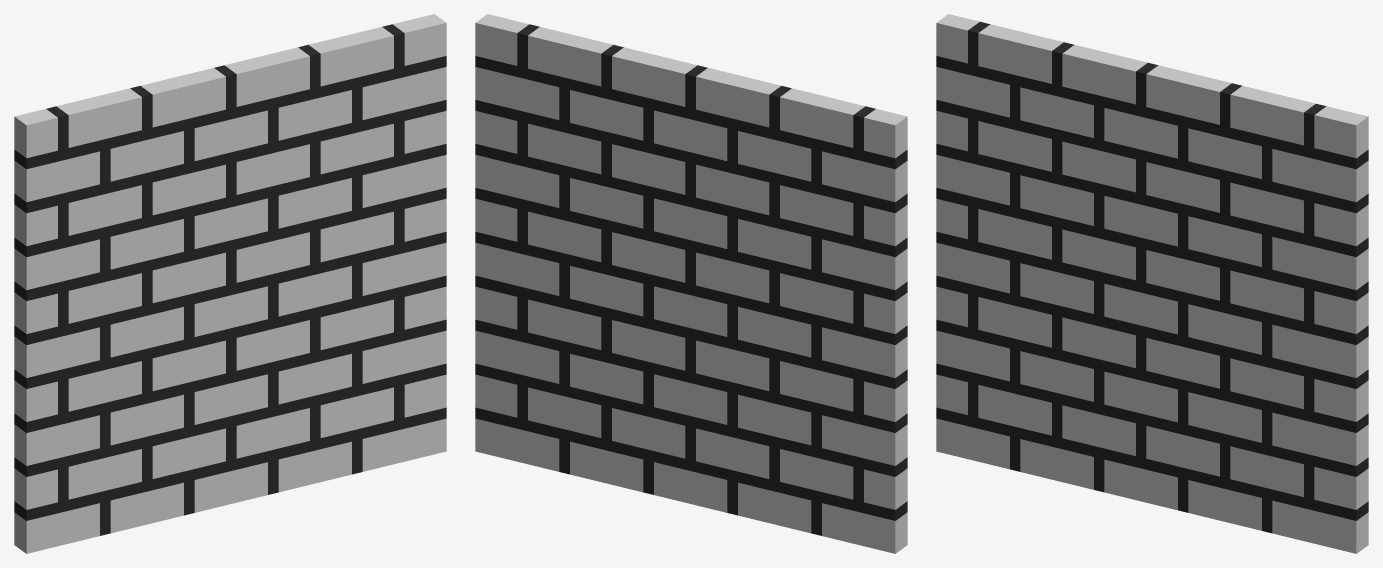
File: ConstructionMaterials-53.obj
The picture shows the model from 3 angles, left to right: view 1: azimuth 30°, elevation 25°; view 2: azimuth 150°, elevation 25°; view 3: azimuth 330°, elevation 25°; orthographic projection.
Bounding box in the file's own units: 4 × 3.9 × 0.2.
1 material, 1 textured.
